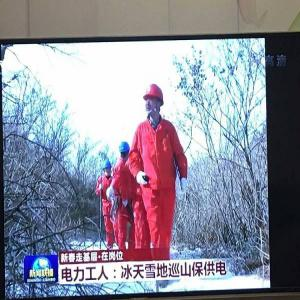blue: (119, 142, 131, 160), (103, 161, 114, 179)
red: (143, 84, 165, 120)
